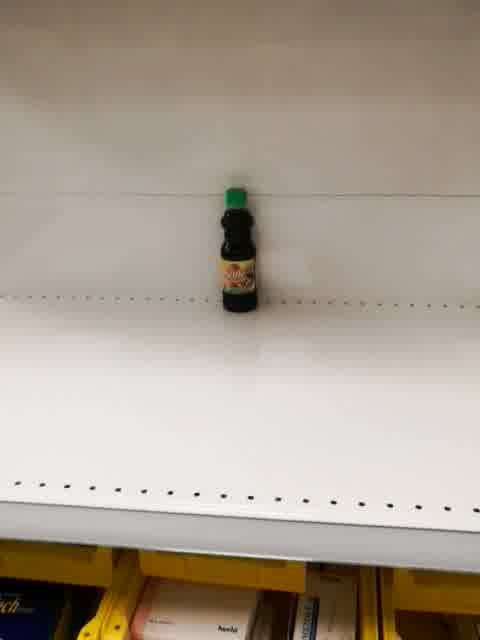cookingoil: (218, 183, 259, 315)
